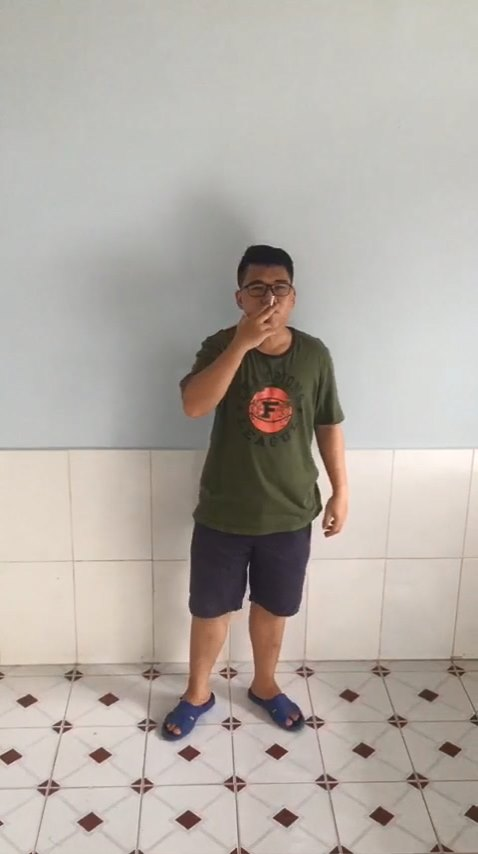cigarette: (269, 286, 284, 309)
person: (155, 212, 357, 765)
